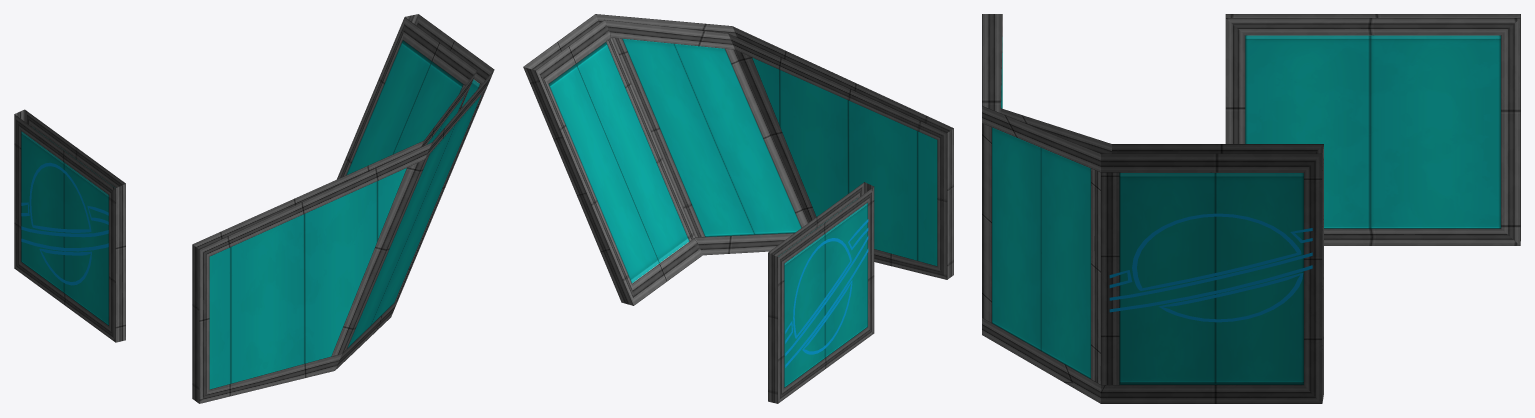
File: OcclusionScreen_Single.fbx
The picture shows the model from 3 angles, left to right: view 1: azimuth 30°, elevation 25°; view 2: azimuth 150°, elevation 25°; view 3: azimuth 270°, elevation 25°; orthographic projection. The views are drawn at different scales.
Parts seen in each view (by area): view 1: OcclusionScreens; view 2: OcclusionScreens; view 3: OcclusionScreens.
Boxes of the visible parts, x1,y1,x2,y2 form: OcclusionScreens: [14, 14, 494, 403]; OcclusionScreens: [523, 14, 953, 403]; OcclusionScreens: [982, 14, 1520, 403].
Bounding box in the file's own units: 1132 × 715 × 1078.
